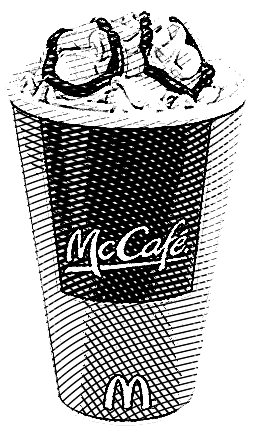mcdonalds: (103, 369, 155, 412), (100, 366, 152, 408), (103, 369, 153, 411)
